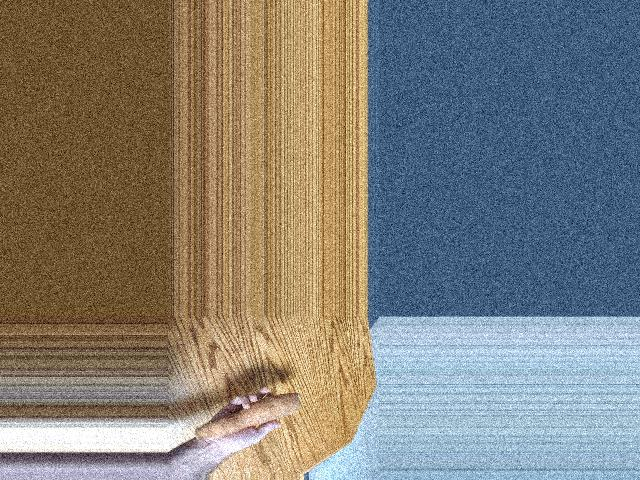sweet_potato: (197, 390, 300, 442)
